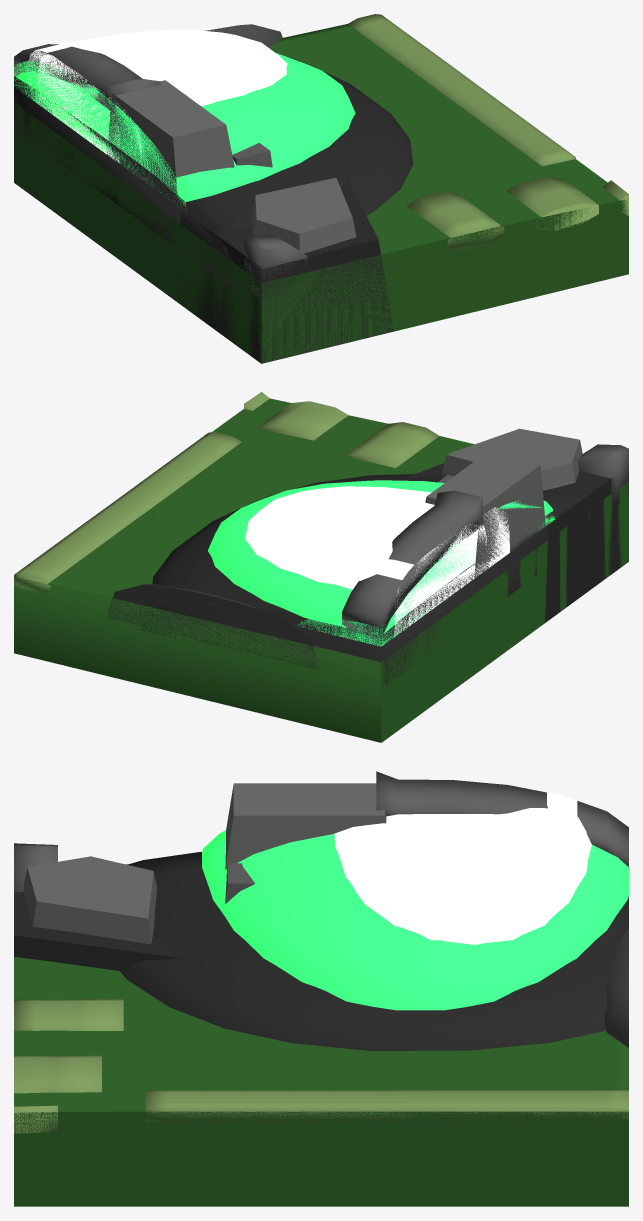
File: newshj-163.glb
3 views of the same model, one above another, from view 1: azimuth 30°, elevation 25°; view 2: azimuth 150°, elevation 25°; view 3: azimuth 270°, elevation 25° (orthographic). The views are drawn at different scales.
Visible parts, largest first — view 1: newshj-163, newshj-163-core, newshj-163-core-small; view 2: newshj-163, newshj-163-core, newshj-163-core-small; view 3: newshj-163, newshj-163-core.
Part boxes in pixels (box(x1,y1,x2,y2)): newshj-163: box(14, 14, 628, 363); newshj-163-core: box(27, 29, 287, 158); newshj-163-core-small: box(37, 55, 119, 162); newshj-163: box(14, 392, 628, 742); newshj-163-core: box(245, 486, 509, 636); newshj-163-core-small: box(396, 524, 486, 584); newshj-163: box(14, 771, 628, 1206); newshj-163-core: box(334, 792, 591, 944).
Bounding box in the file's own units: 2 × 0.8899 × 2.33.
